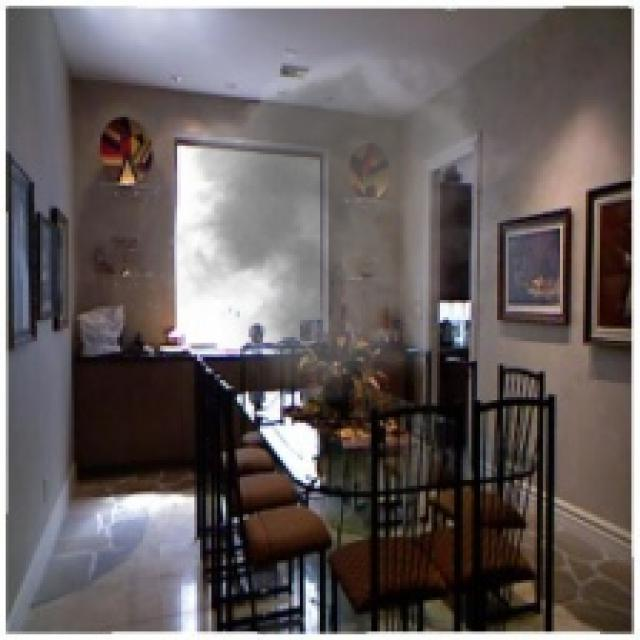Smoke: (148, 34, 528, 403)
